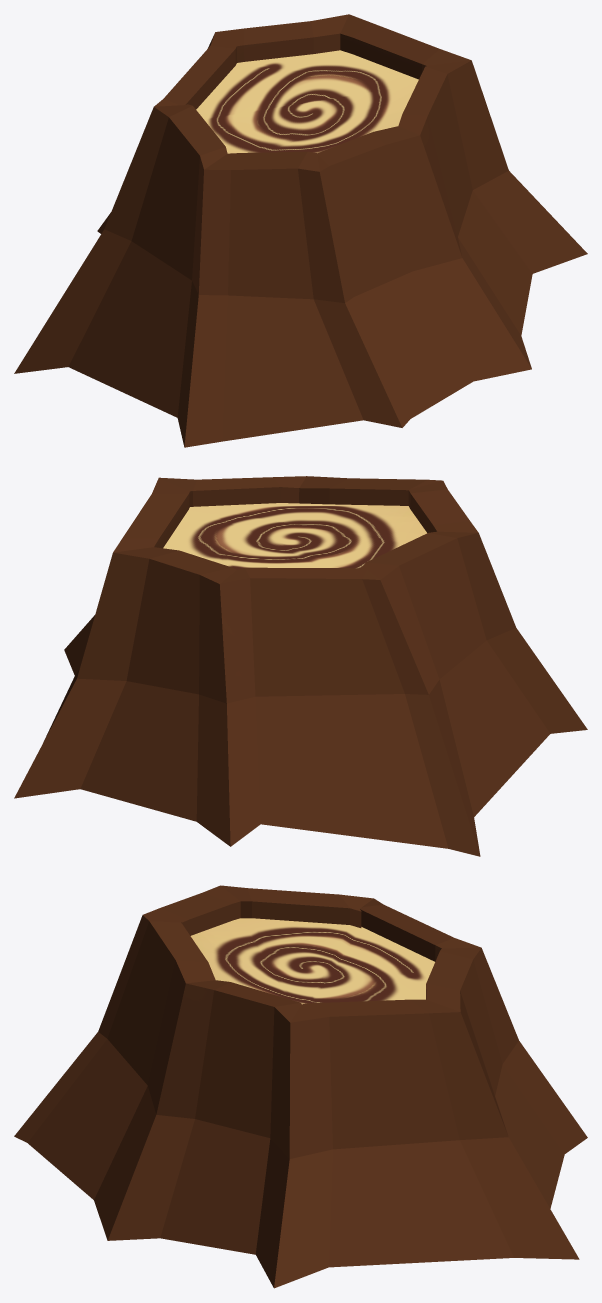
File: tree cut.fbx
3 views of the same model, one above another, from view 1: azimuth 30°, elevation 25°; view 2: azimuth 150°, elevation 25°; view 3: azimuth 270°, elevation 25° (orthographic). The views are drawn at different scales.
Parts seen in each view (by area): view 1: tree cut; view 2: tree cut; view 3: tree cut.
Boxes of the visible parts, x1,y1,x2,y2 form: tree cut: (14,14,587,447); tree cut: (14,476,587,856); tree cut: (14,885,587,1288).
Bounding box in the file's own units: 106 × 52.13 × 105.
Materials: 1 (1 with a texture image).
